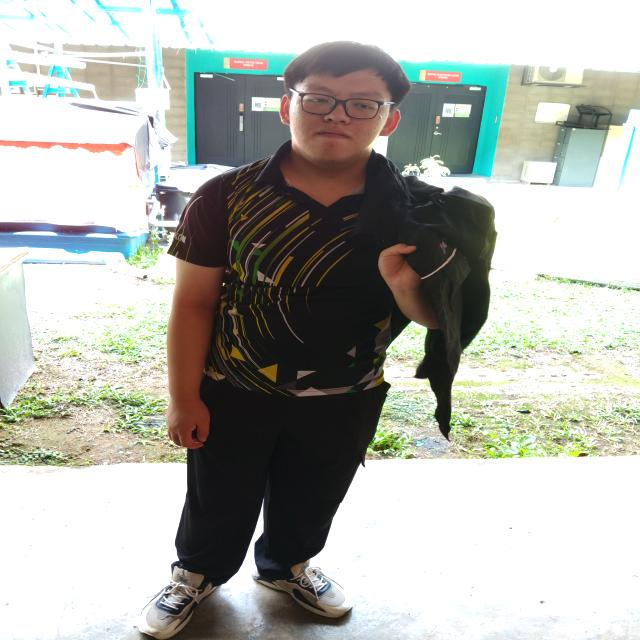person_without_labcoat: (139, 41, 496, 640)
